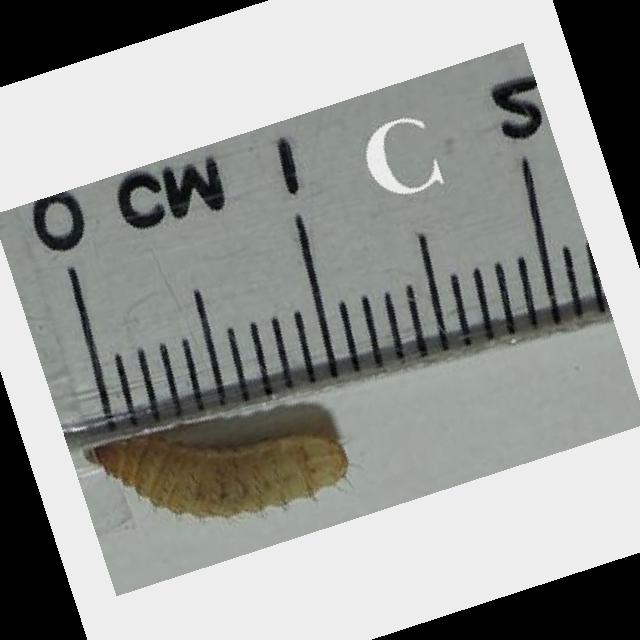Maggot: (89, 421, 351, 519)
